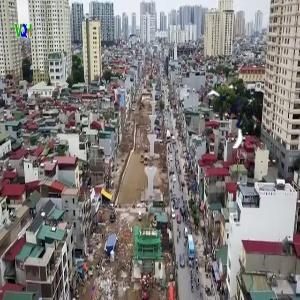drone: (202, 80, 265, 143)
